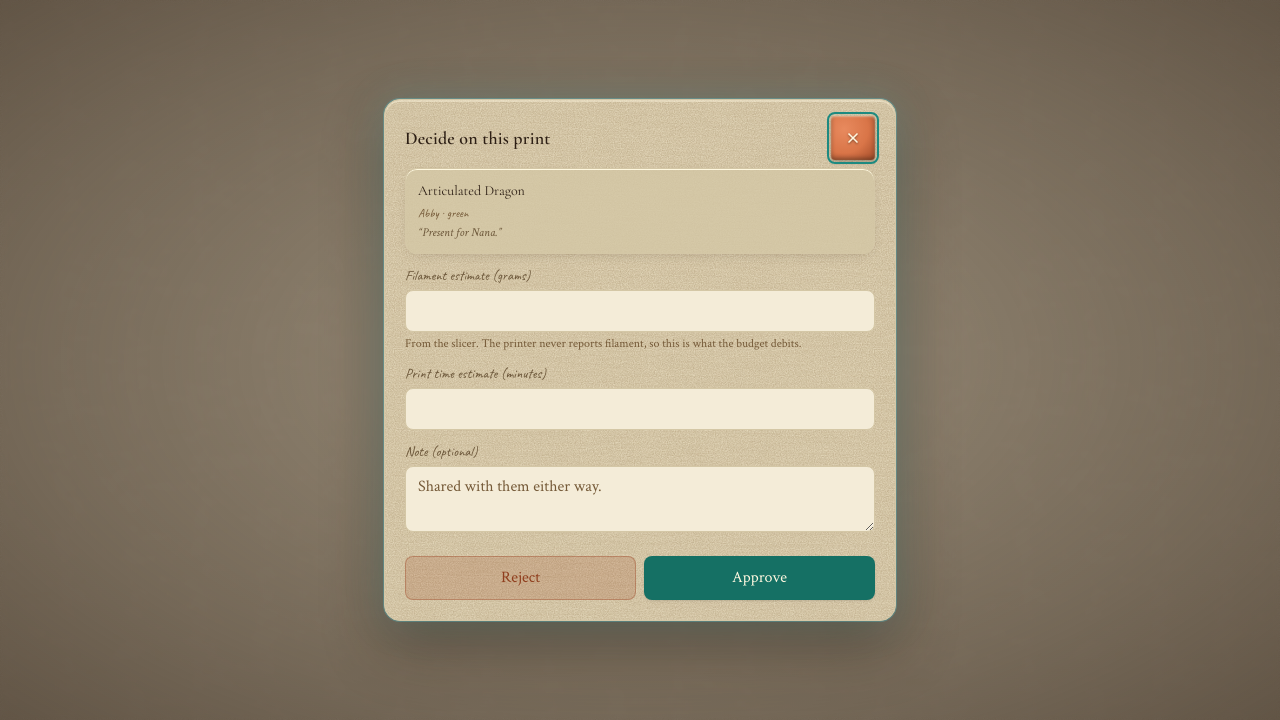
Test case: ApprovalSheet › backs out of the confirm without rejecting
What coordinates should you click on to do the following:
click the button "Reject"
I would click on:
 (520, 578)
Its box is [405,556,636,600].
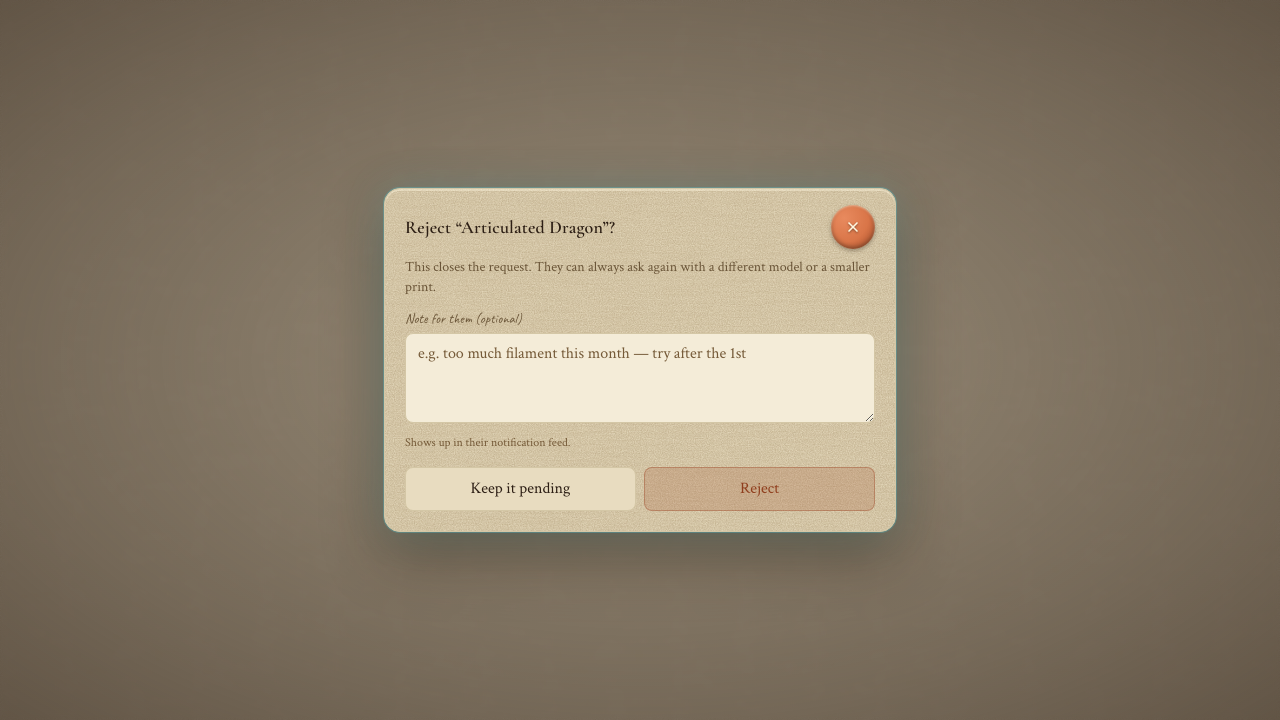
What coordinates should you click on to do the following:
click the button "Keep it pending"
I would click on:
 (520, 489)
Its box is [405,467,636,511].
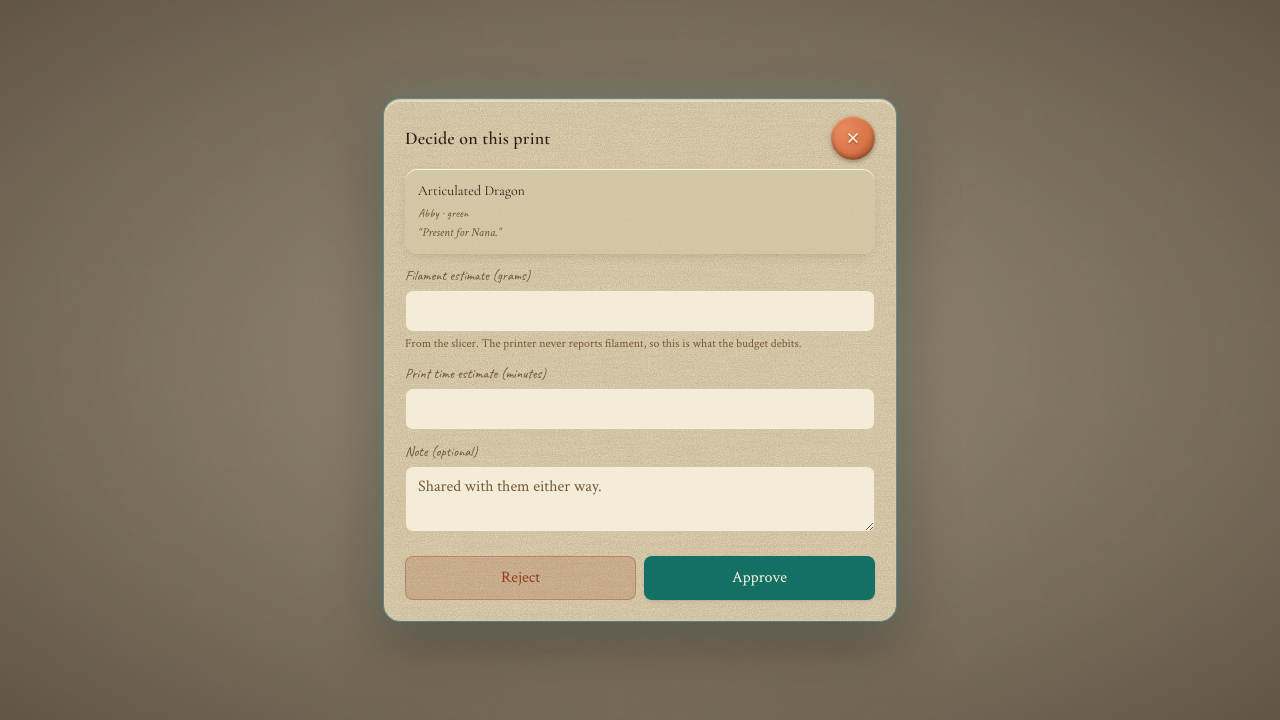
Now the button "Approve" is shown, box [644,556,875,600]
